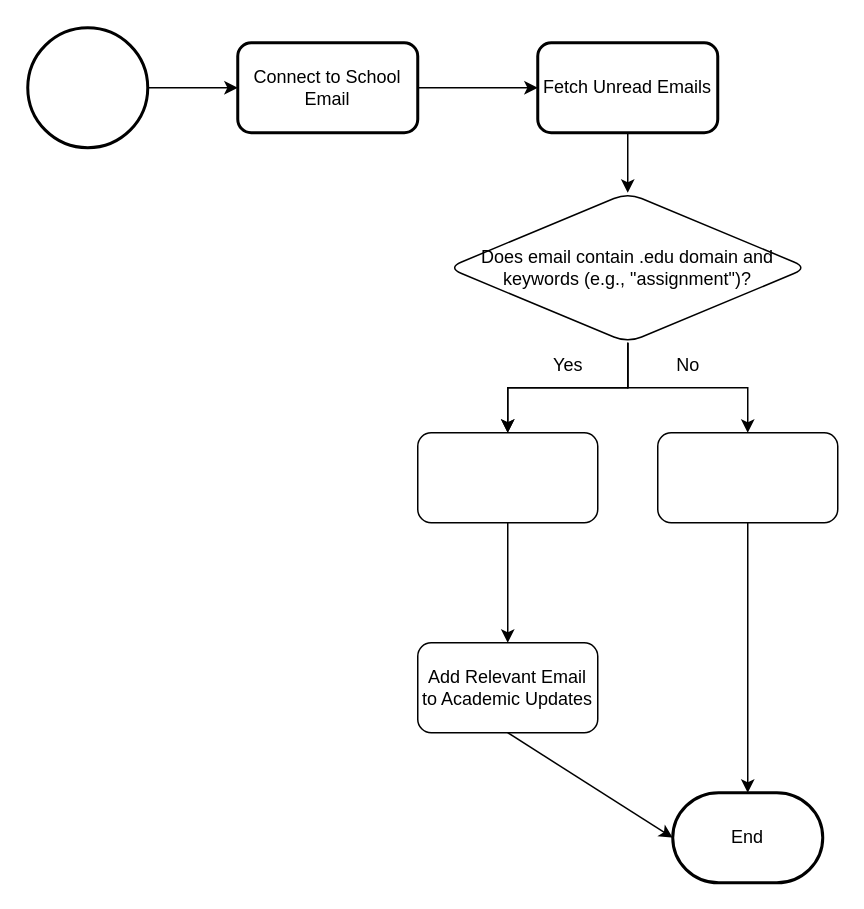
Image size: 864x909. Some labels were removed from this diagram. Each missing label, with the box of its shape:
Ignore Email: (656, 431, 838, 523)
Parse Email Content: (416, 431, 598, 523)
Start: (26, 26, 148, 148)
